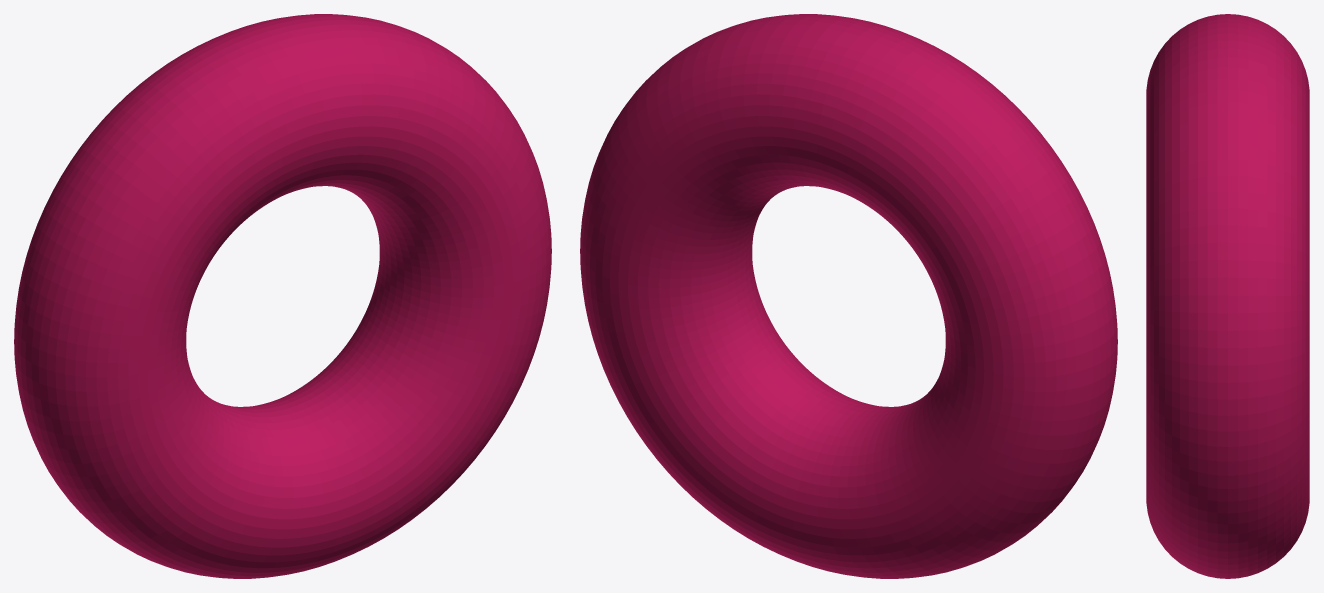
3 views of the same model, side by side, from view 1: azimuth 30°, elevation 25°; view 2: azimuth 150°, elevation 25°; view 3: azimuth 270°, elevation 25° (orthographic). The views are drawn at different scales.
Visible parts, largest first — view 1: world; view 2: world; view 3: world.
Boxes of the visible parts, x1,y1,x2,y2 form: world: [14, 14, 551, 578]; world: [580, 14, 1117, 578]; world: [1146, 14, 1309, 578].
Bounding box in the file's own units: 24.4 × 24.4 × 7.05.
